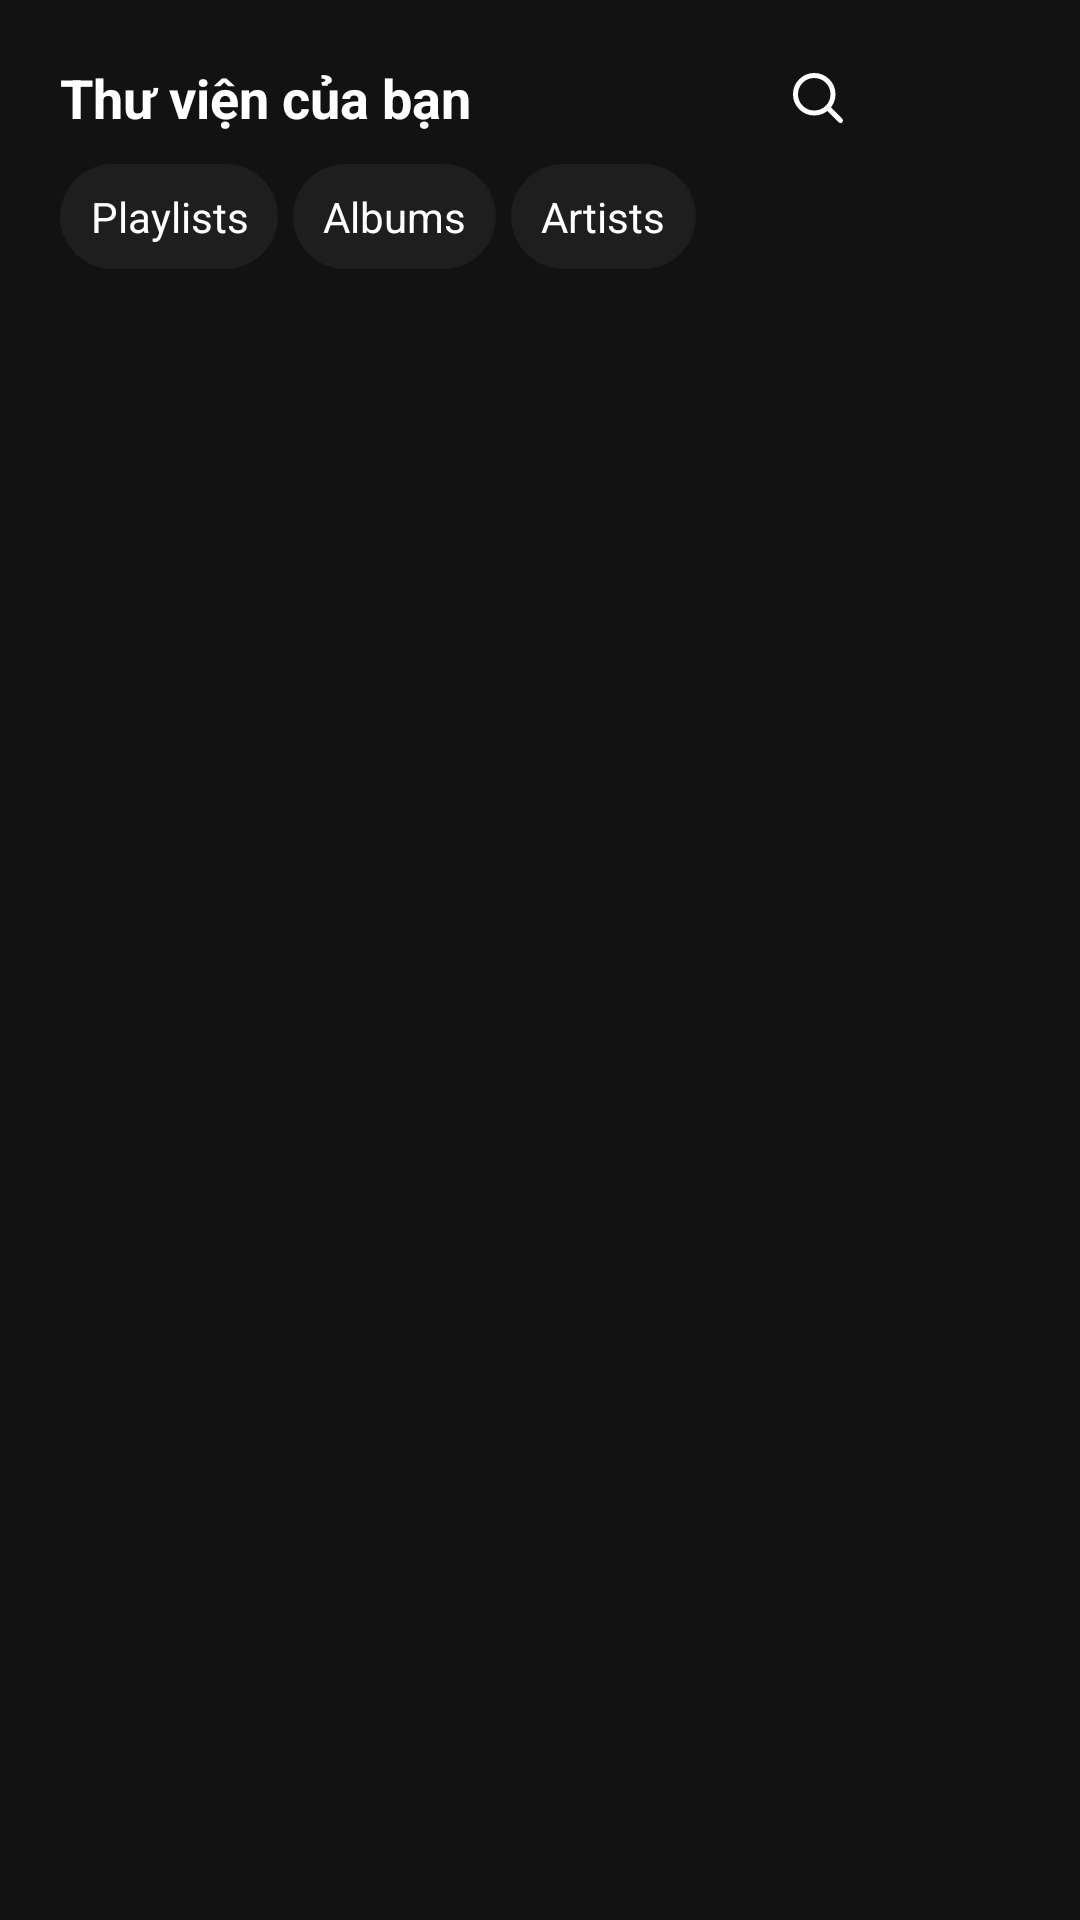

Locate icon controls on the screen. Image size 1080 x 1920, boxes as (x1, y1, x2, y2).
search: (793, 73, 843, 123)
